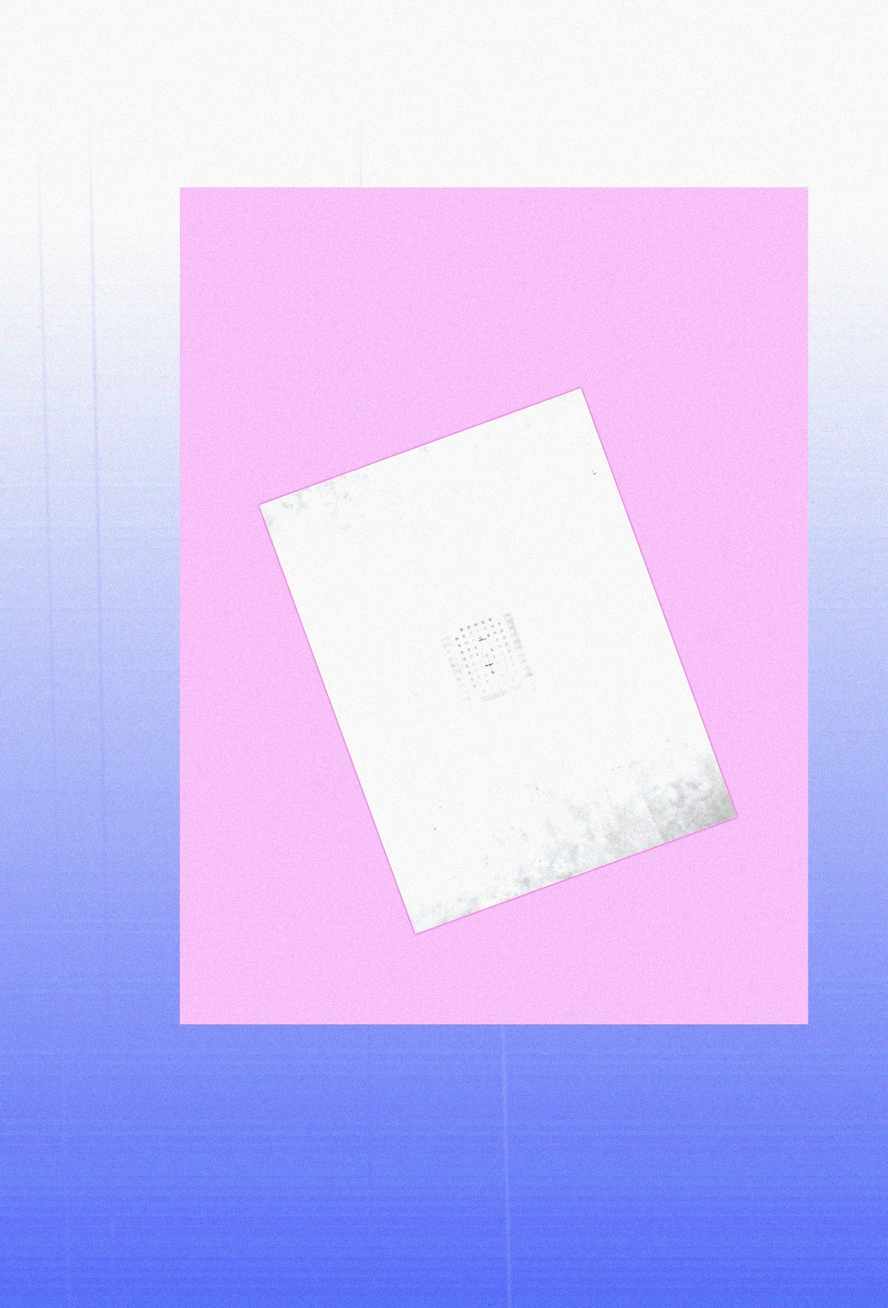basket: (445, 607, 523, 706)
mannequin: (475, 631, 501, 679)
